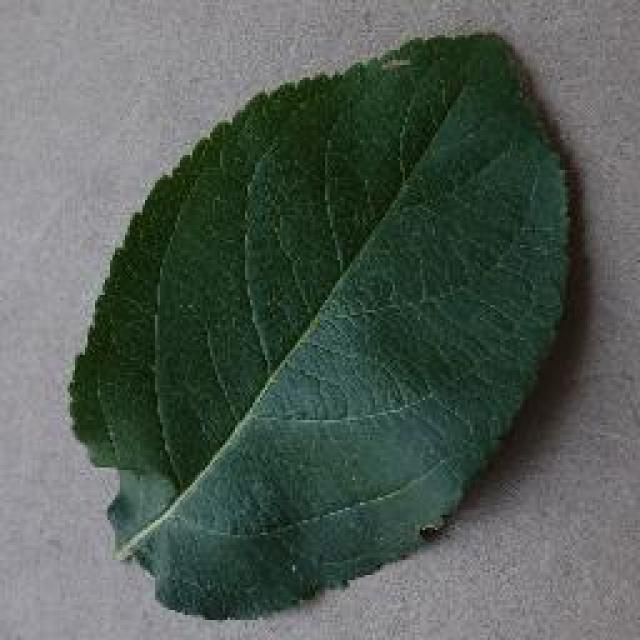apple healthy: (65, 28, 585, 620)
